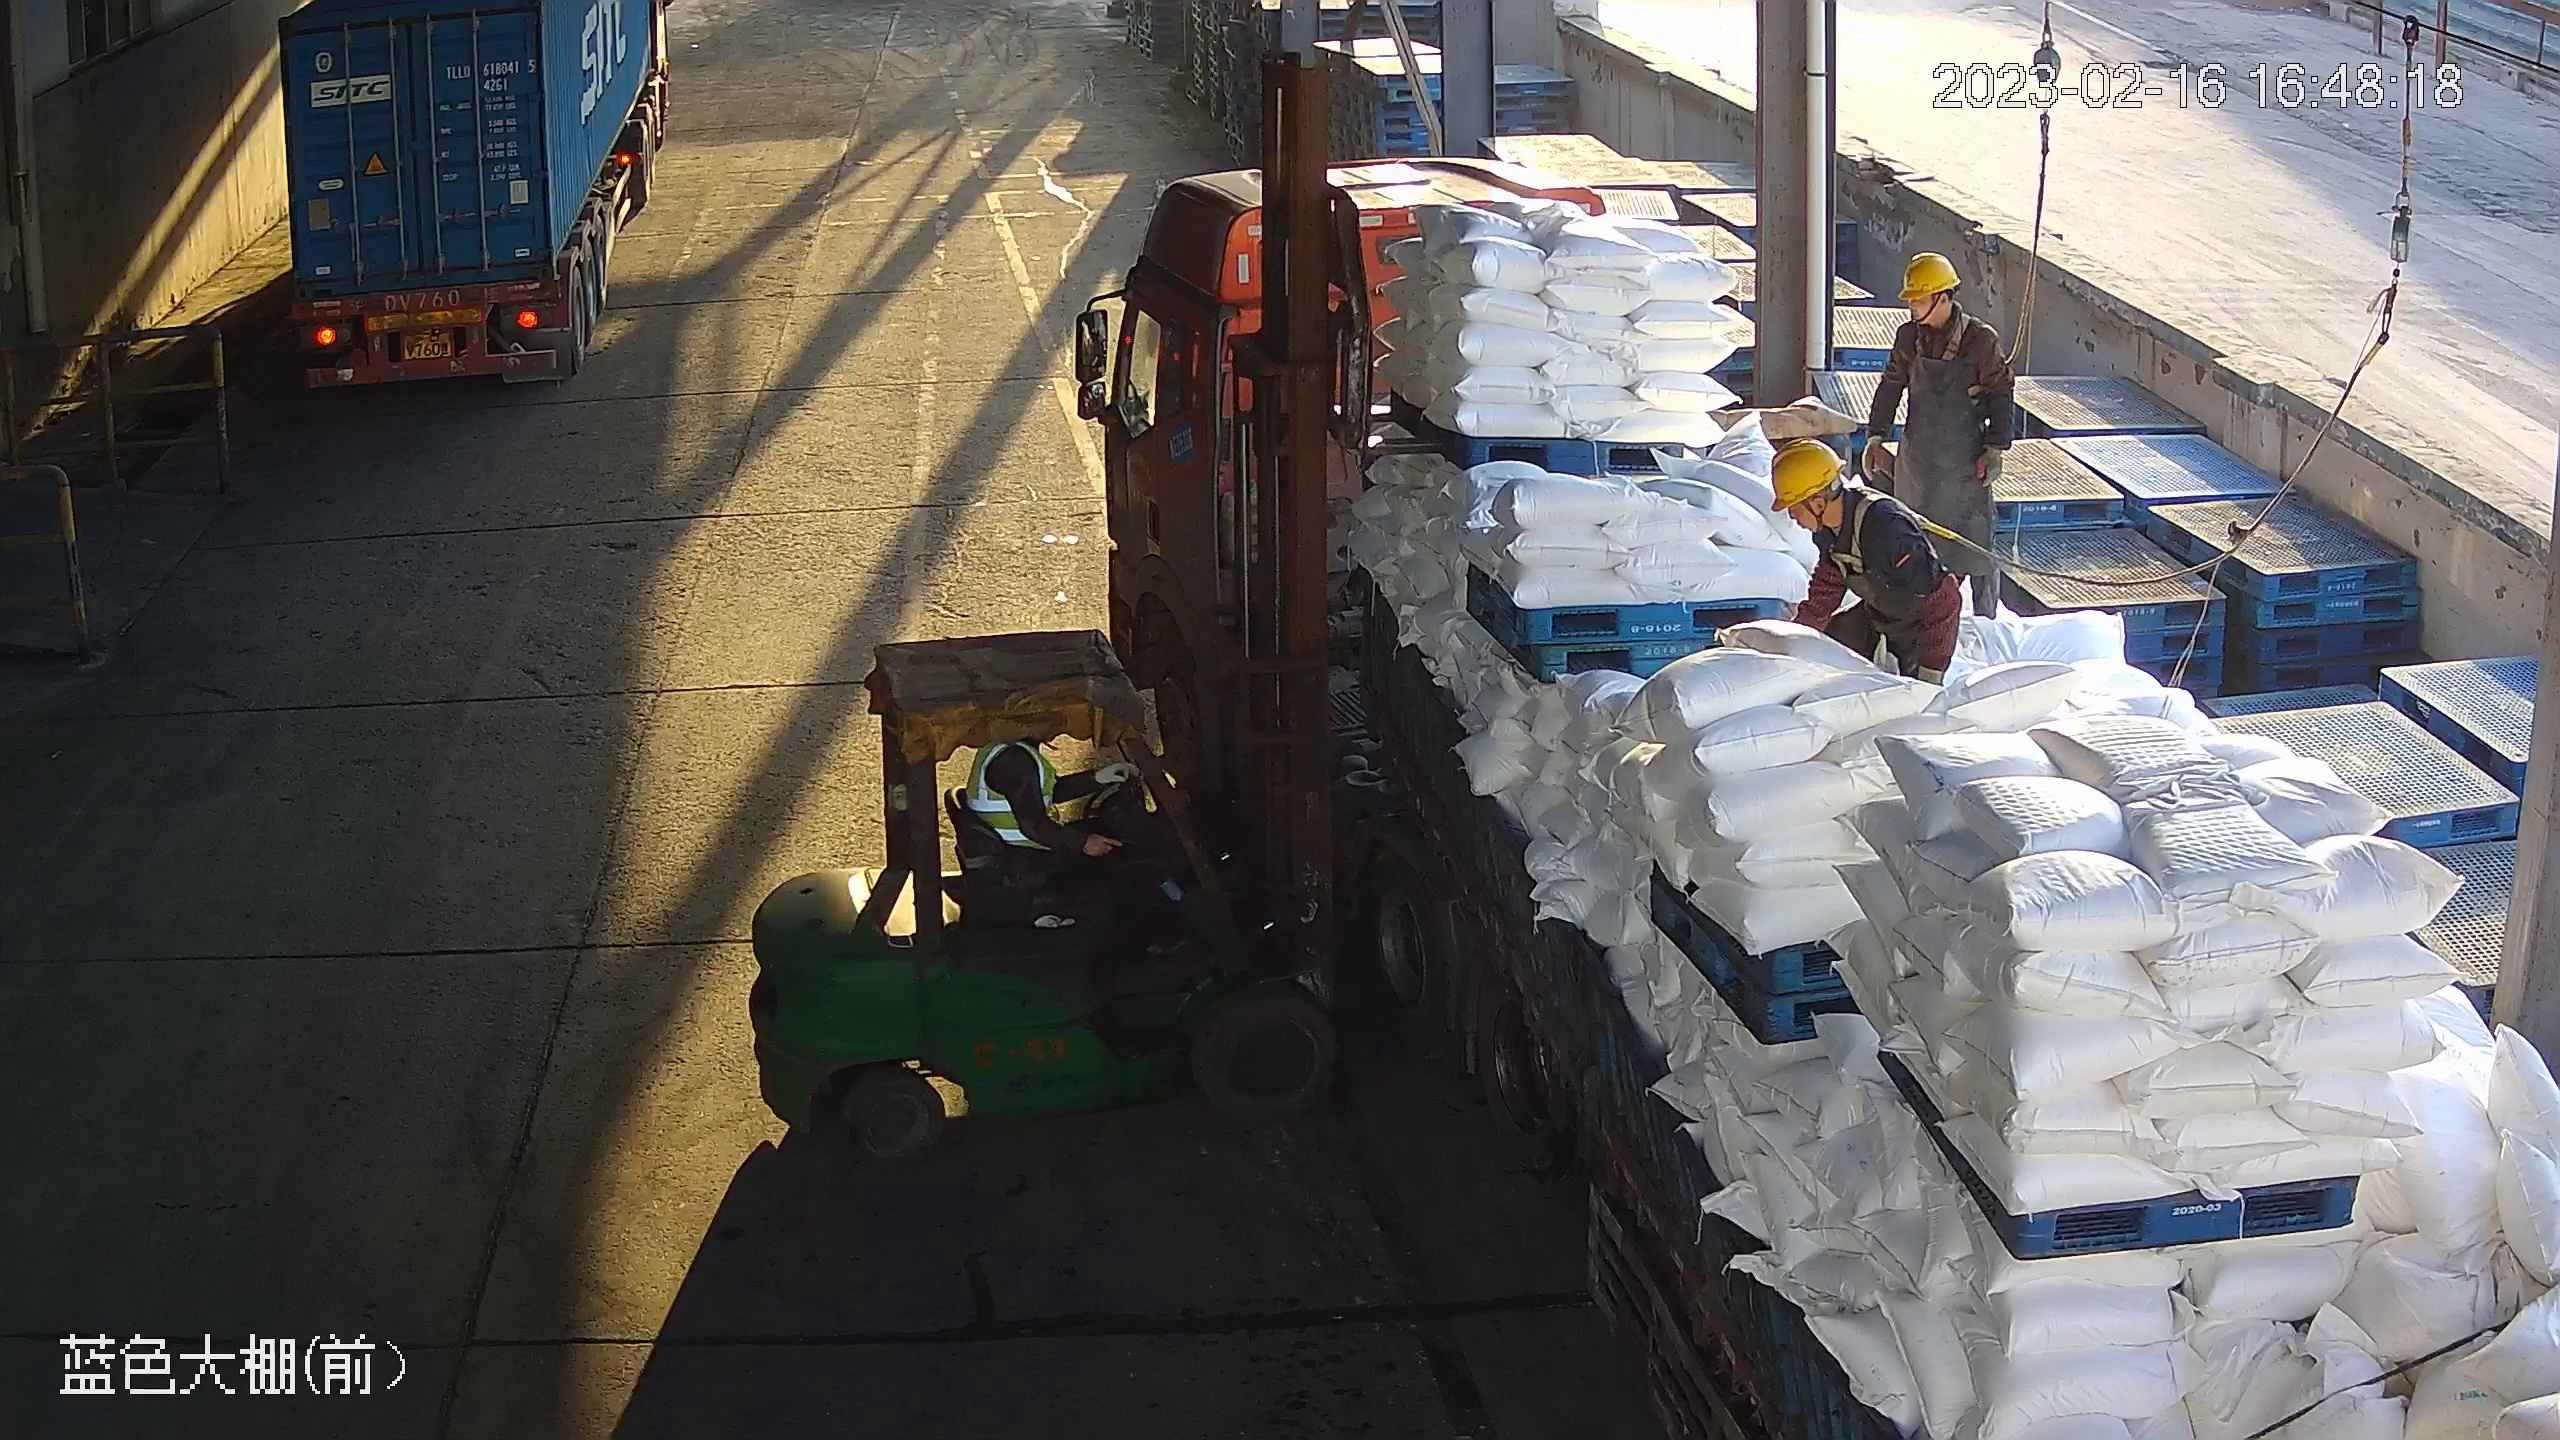belt: (1829, 484, 1941, 580), (1916, 313, 2017, 395)
head: (1769, 436, 1905, 545), (1893, 250, 2003, 379)
helmet: (1769, 436, 1848, 512), (1897, 250, 1962, 300)
people: (1861, 249, 2014, 618), (1770, 436, 1962, 686)
truck: (1076, 157, 2560, 1440), (276, 1, 665, 392)
